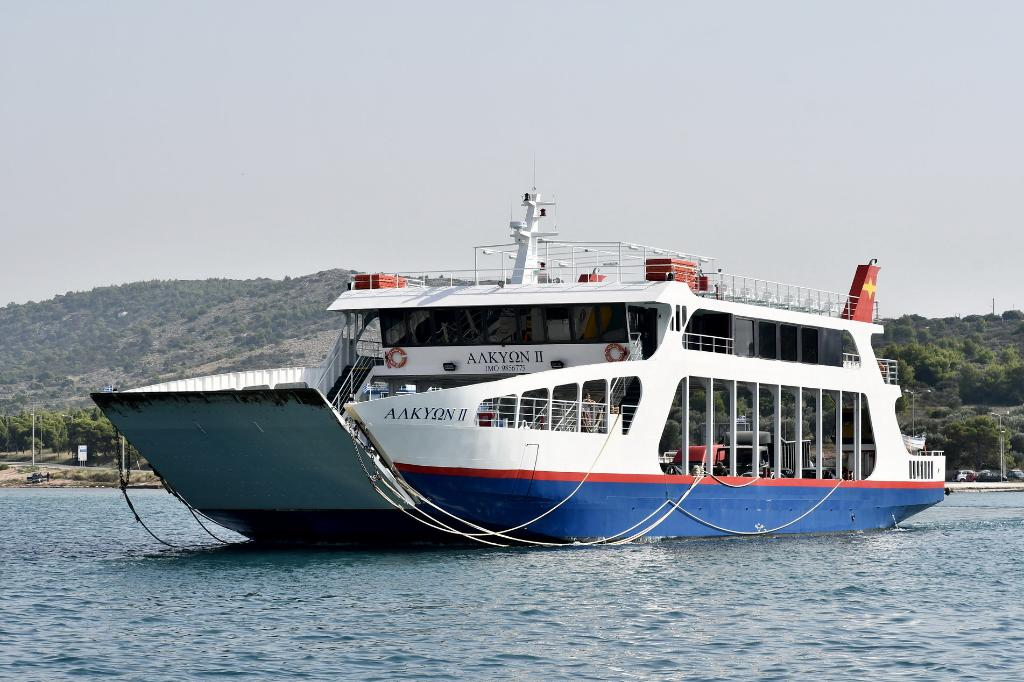PassengerShip: (70, 176, 960, 550)
